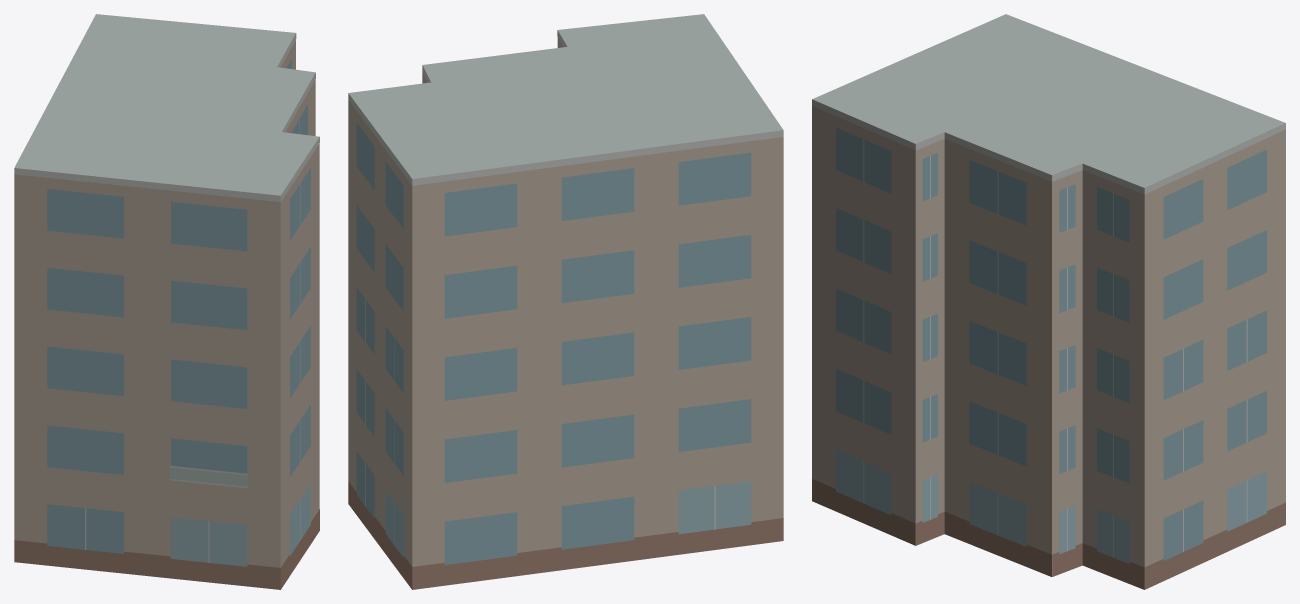
The model's file is survey-upis-32846979.glb.
3 renders of one model, left to right at view 1: azimuth 30°, elevation 25°; view 2: azimuth 150°, elevation 25°; view 3: azimuth 270°, elevation 25°, orthographic. The views are drawn at different scales.
Visible parts, largest first — view 1: survey-upis-32846979.tmp; view 2: survey-upis-32846979.tmp; view 3: survey-upis-32846979.tmp.
Part boxes in pixels (x1,y1,x2,y2): survey-upis-32846979.tmp: [14, 14, 319, 589]; survey-upis-32846979.tmp: [348, 14, 783, 589]; survey-upis-32846979.tmp: [812, 14, 1285, 589].
Size of the model in its own units: 13.94 by 15 by 16.03.
